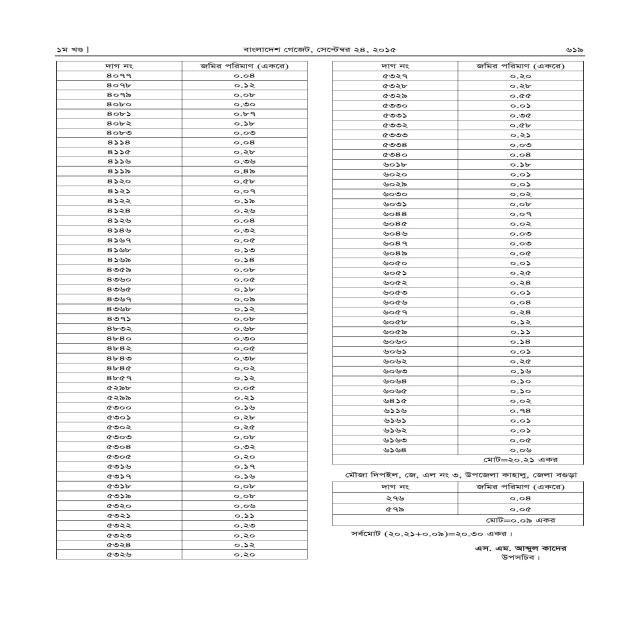page number: (561, 46, 587, 54)
table: (56, 61, 308, 560), (332, 61, 584, 465), (332, 481, 585, 526)
text: (341, 470, 580, 480), (475, 545, 568, 561), (350, 529, 513, 538), (483, 455, 560, 463), (484, 516, 558, 524), (104, 374, 134, 382), (104, 532, 132, 540), (54, 47, 85, 54), (106, 256, 133, 264), (231, 207, 257, 215), (104, 247, 133, 254), (104, 355, 133, 362), (104, 394, 133, 401), (104, 424, 133, 431), (105, 473, 134, 480), (105, 345, 133, 352), (105, 492, 133, 499), (105, 522, 133, 529), (105, 551, 133, 558), (106, 101, 133, 108), (106, 110, 133, 117), (106, 120, 133, 127), (106, 198, 133, 205), (105, 207, 132, 214), (107, 217, 134, 224), (106, 227, 133, 234), (105, 365, 132, 372), (230, 365, 257, 372), (230, 296, 257, 303), (229, 237, 256, 244), (106, 139, 132, 146), (106, 178, 132, 185), (106, 286, 132, 293), (106, 483, 132, 490), (106, 512, 132, 519), (231, 404, 257, 411), (231, 375, 257, 382), (232, 355, 258, 362), (231, 316, 257, 323), (231, 286, 257, 293), (231, 247, 257, 254), (231, 217, 257, 224), (232, 188, 258, 195), (230, 120, 256, 127), (231, 111, 257, 118), (232, 101, 258, 108), (232, 91, 258, 98), (104, 326, 134, 332), (106, 168, 131, 175), (232, 493, 257, 500), (233, 483, 258, 490), (231, 434, 256, 441), (232, 414, 257, 421), (231, 335, 256, 342), (232, 158, 257, 165), (508, 309, 533, 316), (105, 73, 134, 79), (105, 267, 134, 273), (104, 405, 133, 411), (104, 434, 133, 440), (105, 454, 134, 460), (105, 83, 133, 89), (107, 149, 131, 156), (107, 188, 131, 195), (105, 277, 133, 283), (105, 296, 133, 302), (105, 385, 133, 391), (104, 444, 132, 450), (106, 464, 134, 470), (105, 503, 133, 509), (104, 542, 132, 548), (233, 453, 257, 460), (233, 444, 257, 451), (232, 276, 256, 283), (232, 257, 256, 264), (232, 227, 256, 234), (232, 197, 256, 204), (508, 122, 532, 129), (508, 368, 532, 375), (105, 92, 132, 98), (106, 130, 133, 136), (106, 306, 133, 312), (106, 335, 133, 341), (106, 415, 133, 421), (231, 267, 258, 273), (382, 280, 409, 286), (382, 73, 409, 79), (233, 473, 256, 480), (233, 463, 256, 470), (233, 424, 256, 431), (233, 394, 256, 401), (233, 72, 256, 79), (106, 159, 132, 165), (106, 237, 132, 243), (231, 552, 257, 558), (233, 523, 259, 529), (507, 152, 533, 158), (383, 428, 409, 434), (382, 359, 408, 365), (382, 339, 408, 345), (382, 319, 408, 325), (382, 221, 408, 227), (382, 172, 408, 178), (382, 152, 408, 158), (382, 83, 408, 89), (507, 507, 533, 513), (106, 316, 131, 322), (232, 385, 257, 391), (232, 346, 257, 352), (233, 306, 258, 312), (231, 168, 256, 174), (231, 82, 256, 88), (508, 231, 533, 237), (508, 241, 533, 247), (507, 359, 532, 365), (508, 437, 533, 443), (383, 408, 408, 414), (382, 398, 407, 404), (382, 378, 407, 384), (382, 329, 407, 335), (382, 270, 407, 276), (382, 211, 407, 217), (383, 93, 408, 99), (233, 542, 257, 548), (233, 533, 257, 539), (233, 503, 257, 509), (232, 326, 256, 332), (233, 178, 257, 184), (233, 149, 257, 155), (232, 140, 256, 146), (233, 130, 257, 136), (509, 93, 533, 99), (509, 211, 533, 217), (509, 221, 533, 227), (509, 270, 533, 276), (509, 280, 533, 286), (508, 300, 532, 306), (508, 329, 532, 335), (508, 349, 532, 355), (508, 378, 532, 384), (507, 389, 531, 395), (508, 398, 532, 404), (509, 418, 533, 424), (509, 447, 533, 453), (383, 447, 407, 453), (382, 418, 406, 424), (382, 310, 410, 315), (386, 495, 406, 502), (385, 506, 405, 513), (233, 513, 256, 519), (509, 83, 532, 89), (509, 103, 532, 109), (509, 181, 532, 187), (509, 192, 532, 198), (509, 260, 532, 266), (509, 290, 532, 296), (509, 408, 532, 414), (509, 495, 532, 501), (381, 300, 408, 305), (381, 192, 408, 197), (382, 162, 409, 167), (382, 123, 409, 128), (382, 103, 409, 108), (510, 73, 532, 79), (510, 162, 532, 168), (510, 319, 532, 325), (509, 339, 531, 345), (509, 427, 531, 433), (382, 438, 408, 443), (382, 389, 408, 394), (382, 369, 408, 374), (382, 290, 408, 295), (382, 261, 408, 266), (382, 251, 408, 256), (382, 241, 408, 246), (382, 182, 408, 187), (382, 133, 408, 138), (510, 132, 531, 138), (507, 202, 532, 207), (382, 349, 407, 354), (383, 231, 408, 236), (382, 202, 407, 207), (382, 143, 407, 148), (383, 113, 408, 118), (508, 251, 532, 256), (509, 113, 532, 118), (509, 143, 532, 148), (510, 172, 532, 177)
title: (241, 45, 398, 54), (198, 62, 290, 71), (474, 482, 566, 491), (474, 62, 565, 70), (104, 63, 135, 69), (380, 63, 411, 69), (380, 484, 411, 490)
